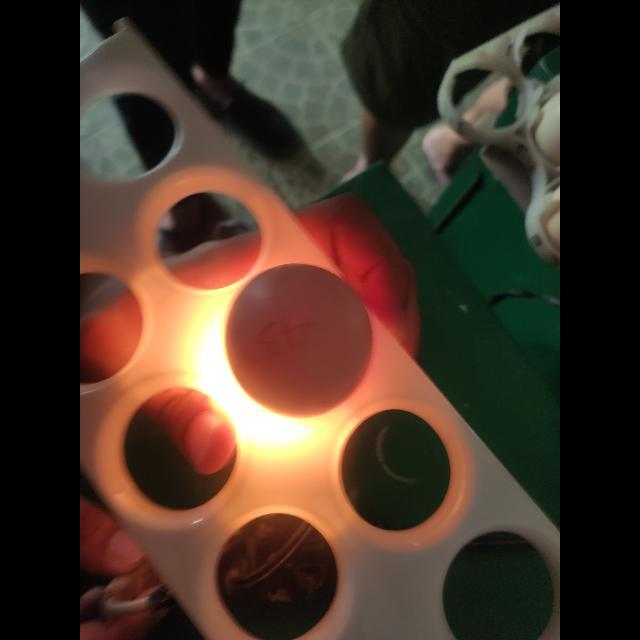Fertile: (224, 262, 378, 418)
